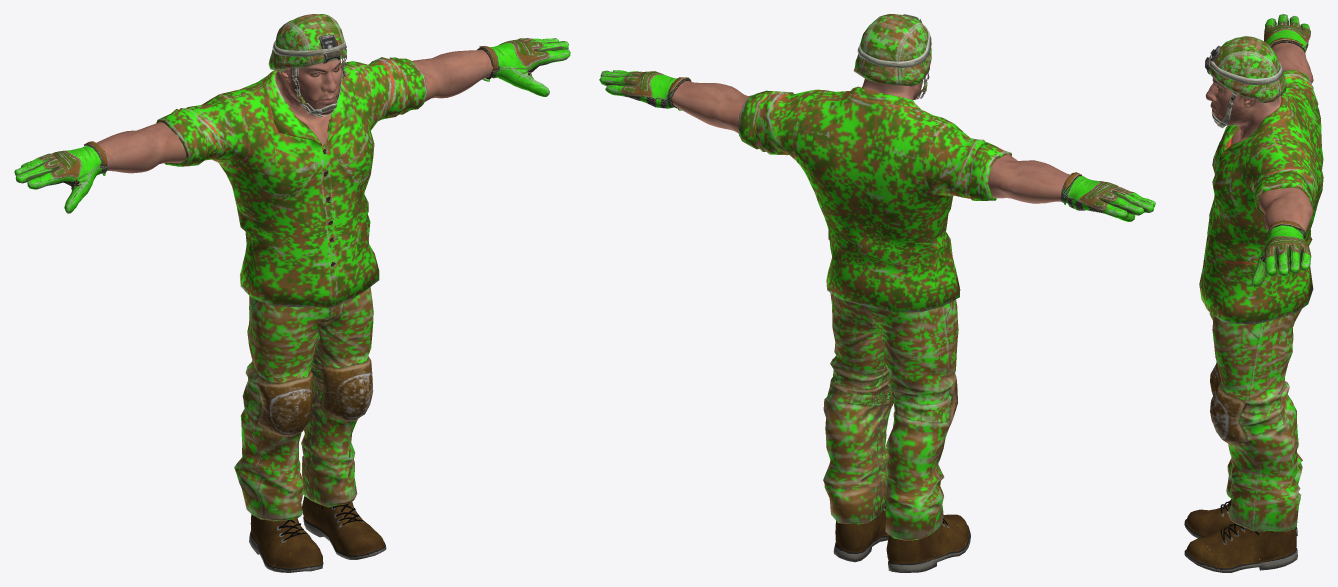
File: EarthMan.obj
The picture shows the model from 3 angles, left to right: view 1: azimuth 30°, elevation 25°; view 2: azimuth 150°, elevation 25°; view 3: azimuth 270°, elevation 25°; orthographic projection. The views are drawn at different scales.
Visible parts, largest first — view 1: Tops, Bottoms, Body, Gloves, Shoes, Hats; view 2: Tops, Bottoms, Body, Gloves, Shoes, Hats; view 3: Tops, Bottoms, Shoes, Body, Hats, Gloves.
Part boxes in pixels (left/top/right/bottom): Tops: left=156, top=57, right=426, bottom=308; Bottoms: left=234, top=287, right=373, bottom=521; Body: left=96, top=49, right=492, bottom=173; Gloves: left=14, top=38, right=570, bottom=213; Shoes: left=249, top=496, right=386, bottom=572; Hats: left=268, top=14, right=346, bottom=117; Tops: left=738, top=86, right=1011, bottom=312; Bottoms: left=823, top=293, right=958, bottom=540; Body: left=672, top=78, right=1069, bottom=203; Gloves: left=599, top=70, right=1155, bottom=221; Shoes: left=833, top=506, right=970, bottom=572; Hats: left=853, top=14, right=931, bottom=99; Tops: left=1199, top=70, right=1323, bottom=324; Bottoms: left=1209, top=309, right=1302, bottom=531; Shoes: left=1184, top=499, right=1297, bottom=572; Body: left=1205, top=42, right=1313, bottom=233; Hats: left=1205, top=36, right=1286, bottom=128; Gloves: left=1252, top=14, right=1311, bottom=287.
Size of the model in its own units: 240 by 220 by 54.7.
